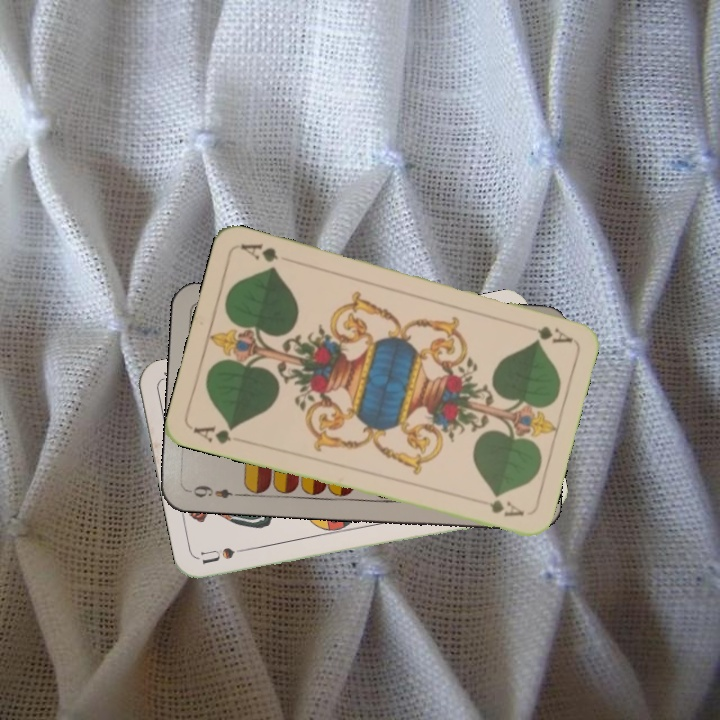E9: (185, 481, 244, 501)
GA: (517, 320, 575, 346), (189, 421, 237, 447)
SU: (198, 542, 257, 567)
